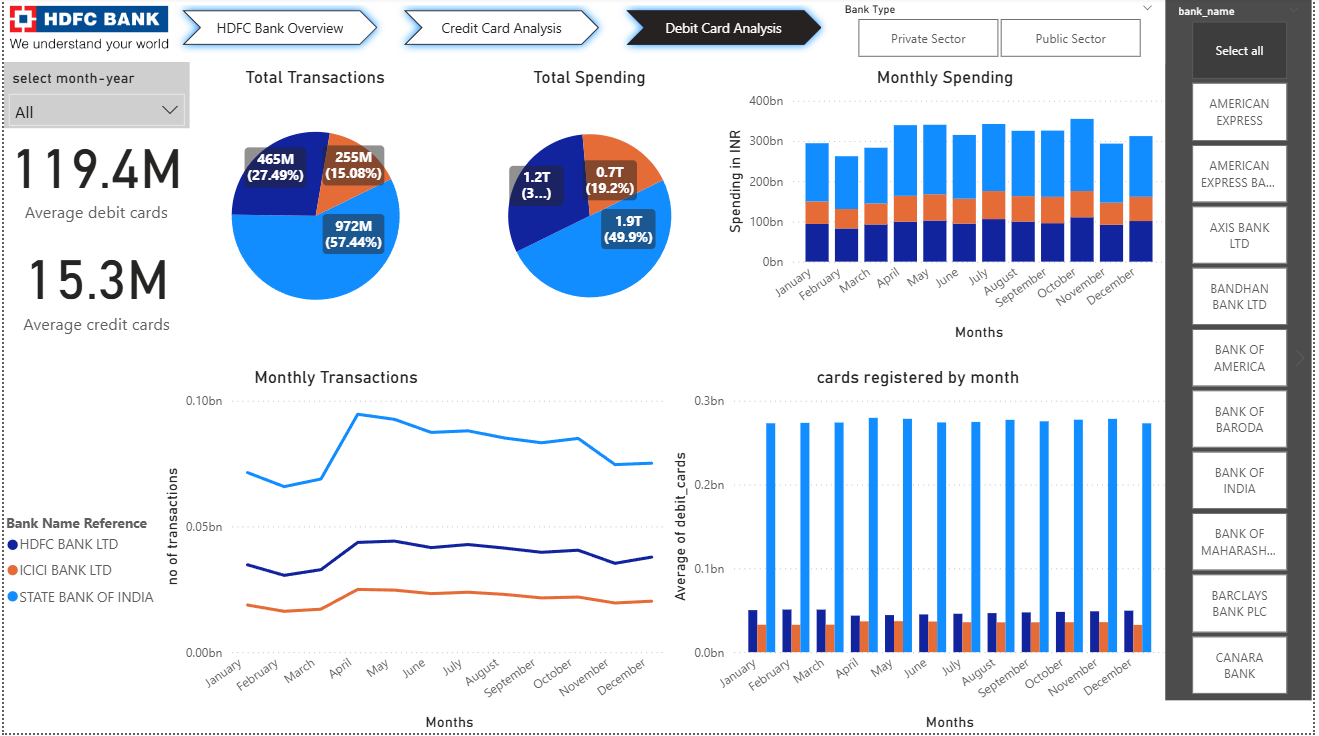

The page's visual inventory and layout, read from the dashboard file:
{"tool":"powerbi","page":{"name":"Debit Card Analysis","canvas":[1280,720],"ordinal":2},"visuals":[{"type":"card","fields":{"Values":["Avg(RBI_22-23.credit_cards)"]},"box":[0,225,181.7,111.7],"z":0},{"type":"card","fields":{"Values":["Avg(RBI_22-23.debit_cards)"]},"box":[0,116.8,181,108.6],"z":1000},{"type":"lineChart","title":"Monthly Transactions","fields":{"Category":["RBI_22-23.month_year.Variation.Date Hierarchy.Year","RBI_22-23.month_year.Variation.Date Hierarchy.Month"],"Y":["RBI_22-23.debit transactions"],"Series":["RBI_22-23.bank_name"]},"box":[0,360,650,360],"z":2000},{"type":"columnChart","title":"Monthly Spending","fields":{"Category":["RBI_22-23.month_year.Variation.Date Hierarchy.Month"],"Series":["RBI_22-23.bank_name"],"Y":["RBI_22-23.debit spending"]},"box":[704.2,65.8,432.7,271.5],"z":3000},{"type":"pieChart","title":"Total Transactions","fields":{"Y":["RBI_22-23.debit transactions"],"Category":["RBI_22-23.bank_name"]},"box":[166.2,65.8,276.4,271.5],"z":4000},{"type":"pieChart","title":"Total Spending","fields":{"Y":["RBI_22-23.debit spending"],"Category":["RBI_22-23.bank_name"]},"box":[442.6,65.8,259.9,271.5],"z":5000},{"type":"clusteredColumnChart","title":"cards registered by month","fields":{"Category":["RBI_22-23.month_year.Variation.Date Hierarchy.Month"],"Series":["RBI_22-23.bank_name"],"Y":["Avg(RBI_22-23.debit_cards)"]},"box":[650,360,487.1,360],"z":6000},{"type":"slicer","fields":{"Values":["RBI_22-23.month_year"]},"box":[0,63.4,181.4,64.8],"z":7000},{"type":"slicer","fields":{"Values":["RBI_22-23.bank_name"]},"box":[1136.4,2,143.4,685.9],"z":8000},{"type":"slicer","fields":{"Values":["RBI_22-23.Bank Type"]},"box":[810,0,326.7,65],"z":9000},{"type":"pageNavigator","box":[166.7,5,643.3,50],"z":10000},{"type":"image","box":[0,1.7,166.7,58.3],"z":11000}]}

Visuals, with their boxes in screenshot pixels (x1, y1, x2, y2), scaled from the page's 1280x720 canvas onto the 1319x736 screenshot:
card - Avg(RBI_22-23.credit_cards): locate(0, 230, 187, 344)
card - Avg(RBI_22-23.debit_cards): locate(0, 119, 187, 230)
"Monthly Transactions" lineChart: locate(0, 368, 670, 735)
"Monthly Spending" columnChart: locate(726, 67, 1172, 345)
"Total Transactions" pieChart: locate(171, 67, 456, 345)
"Total Spending" pieChart: locate(456, 67, 724, 345)
"cards registered by month" clusteredColumnChart: locate(670, 368, 1172, 735)
slicer - RBI_22-23.month_year: locate(0, 65, 187, 131)
slicer - RBI_22-23.bank_name: locate(1171, 2, 1318, 703)
slicer - RBI_22-23.Bank Type: locate(835, 0, 1171, 66)
pageNavigator: locate(172, 5, 835, 56)
image: locate(0, 2, 172, 61)
